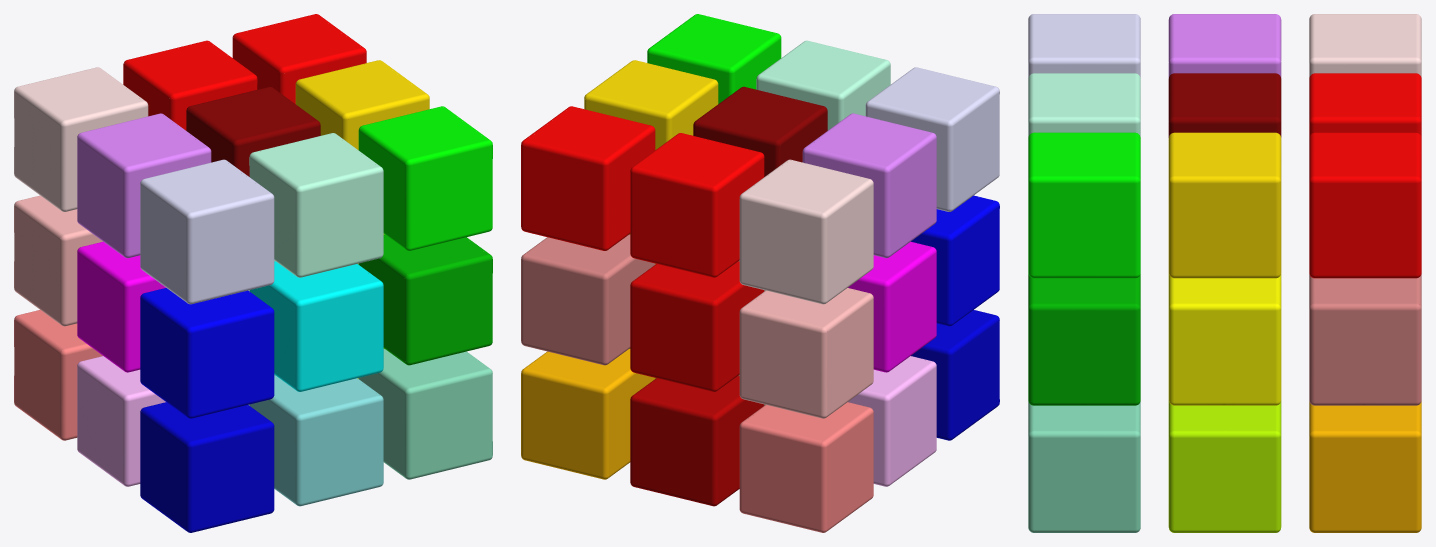
Rendered from RubiksCube.glb.
3 views of the same model, side by side, from view 1: azimuth 30°, elevation 25°; view 2: azimuth 150°, elevation 25°; view 3: azimuth 270°, elevation 25° (orthographic). The views are drawn at different scales.
Visible parts, largest first — view 1: part_13, part_14, part_15, part_07, part_10, part_11, part_12, part_08, part_09, part_16, part_19, part_17 (+7 smaller); view 2: part_19, part_21, part_20, part_01, part_22, part_02, part_23, part_03, part_24, part_13, part_16, part_18 (+7 smaller); view 3: part_04, part_01, part_07, part_06, part_05, part_03, part_09, part_08, part_02, part_16, part_25, part_13 (+3 smaller).
Boxes of the visible parts, box(x1,y1,x2,y2) form: part_13: box(140, 159, 274, 304); part_14: box(140, 288, 274, 418); part_15: box(140, 402, 274, 532); part_07: box(358, 106, 492, 250); part_10: box(249, 133, 383, 277); part_11: box(249, 261, 383, 391); part_12: box(249, 375, 383, 506); part_08: box(358, 234, 492, 365); part_09: box(358, 349, 492, 479); part_16: box(77, 113, 211, 258); part_19: box(14, 67, 148, 211); part_17: box(77, 241, 165, 372); part_19: box(739, 159, 873, 304); part_21: box(739, 402, 873, 532); part_20: box(739, 288, 873, 418); part_01: box(521, 106, 655, 250); part_22: box(630, 133, 764, 277); part_02: box(521, 234, 655, 365); part_23: box(630, 261, 764, 391); part_03: box(521, 349, 655, 479); part_24: box(630, 375, 764, 506); part_13: box(865, 67, 999, 211); part_16: box(802, 113, 936, 258); part_18: box(848, 356, 936, 486); part_04: box(1168, 132, 1281, 278); part_01: box(1309, 132, 1421, 278); part_07: box(1028, 132, 1140, 278); part_06: box(1168, 400, 1281, 532); part_05: box(1168, 273, 1281, 405); part_03: box(1309, 401, 1421, 532); part_09: box(1028, 401, 1140, 532); part_08: box(1028, 274, 1140, 405); part_02: box(1309, 274, 1421, 405); part_16: box(1168, 14, 1281, 78); part_25: box(1168, 73, 1281, 137); part_13: box(1028, 14, 1140, 77).
Size of the model in its own units: 70 by 70 by 70.
